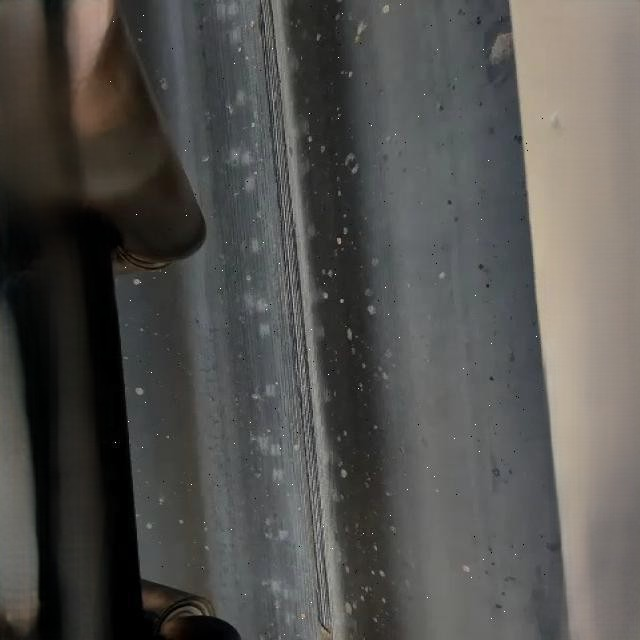Wear: (252, 0, 339, 640)
